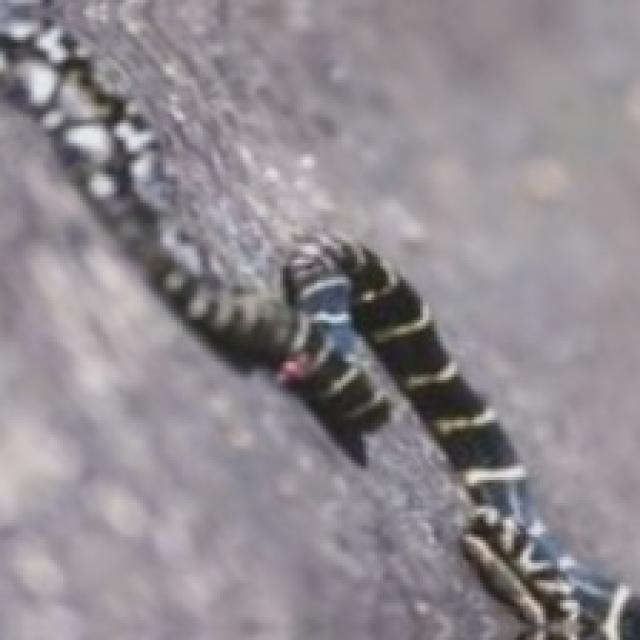king cobra: (69, 0, 637, 580), (0, 106, 520, 637)
